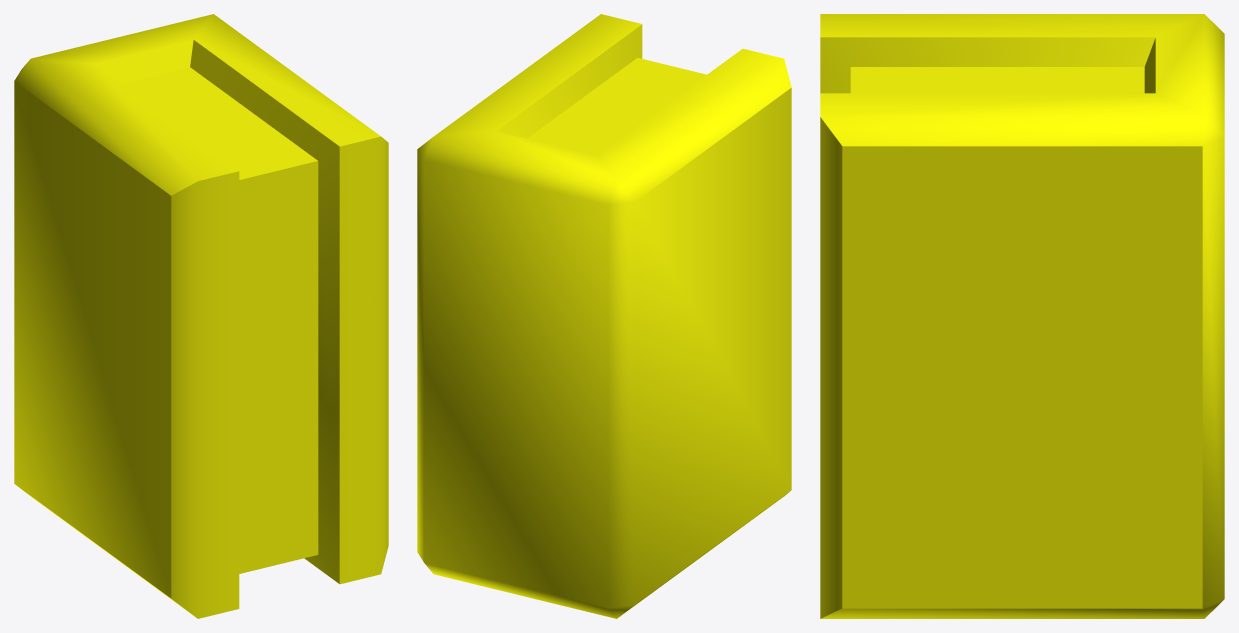
Rendered from kaykit-book-single.glb.
3 renders of one model, left to right at view 1: azimuth 30°, elevation 25°; view 2: azimuth 150°, elevation 25°; view 3: azimuth 270°, elevation 25°, orthographic. The views are drawn at different scales.
Visible parts, largest first — view 1: book_single; view 2: book_single; view 3: book_single.
Boxes of the visible parts, x1,y1,x2,y2 form: book_single: (14, 14, 388, 618); book_single: (417, 14, 791, 618); book_single: (820, 14, 1224, 618).
Size of the model in its own units: 0.26 by 0.5 by 0.365.
